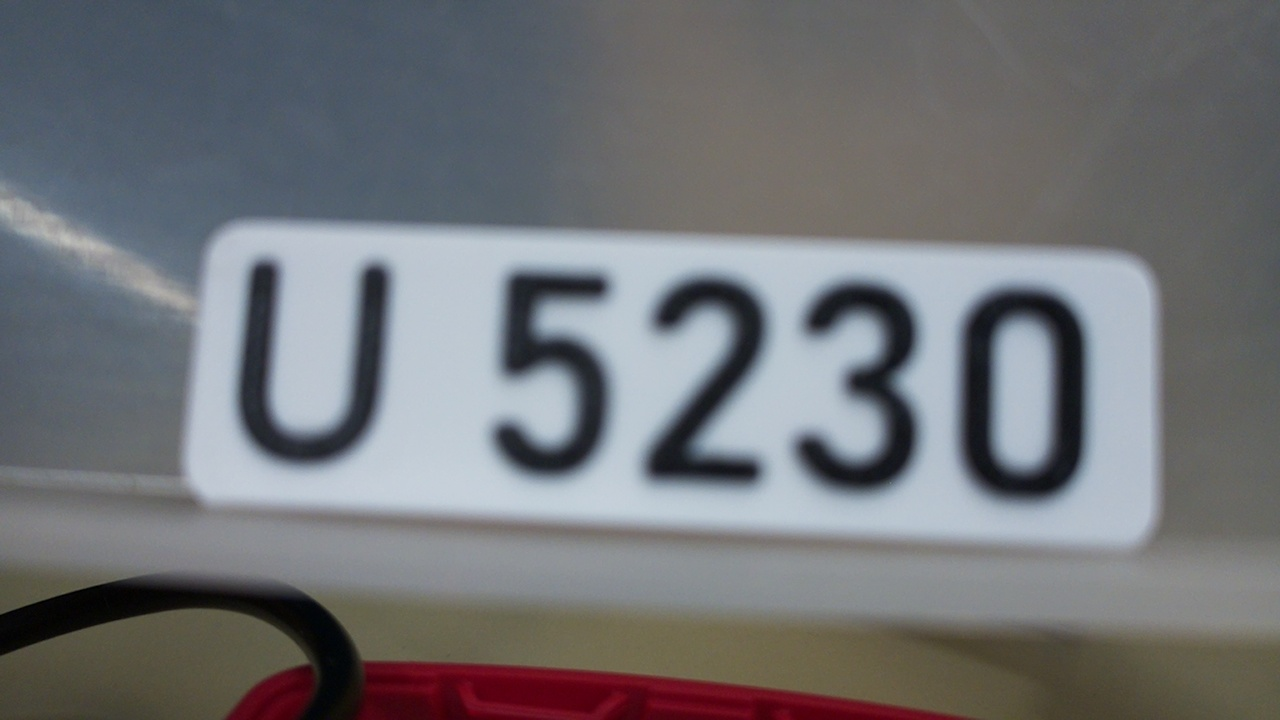license_plate: (179, 213, 1171, 562)
